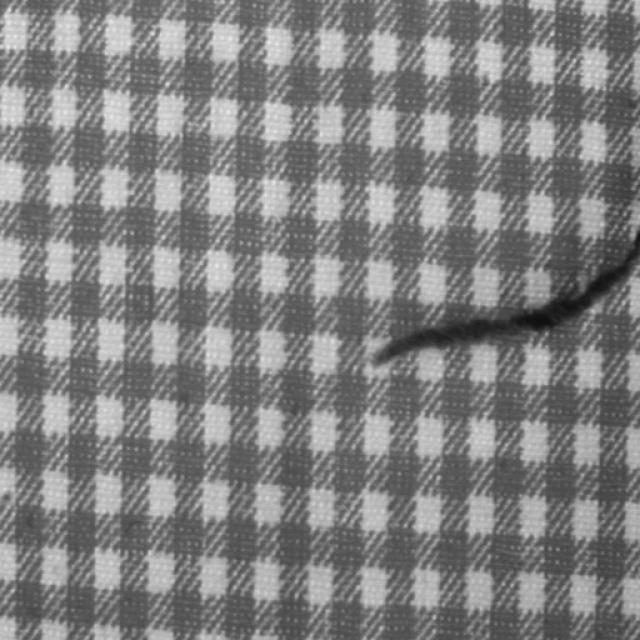Foreign-Body-Defect: (369, 226, 639, 368)
